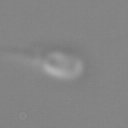normal: (1, 46, 47, 88)
